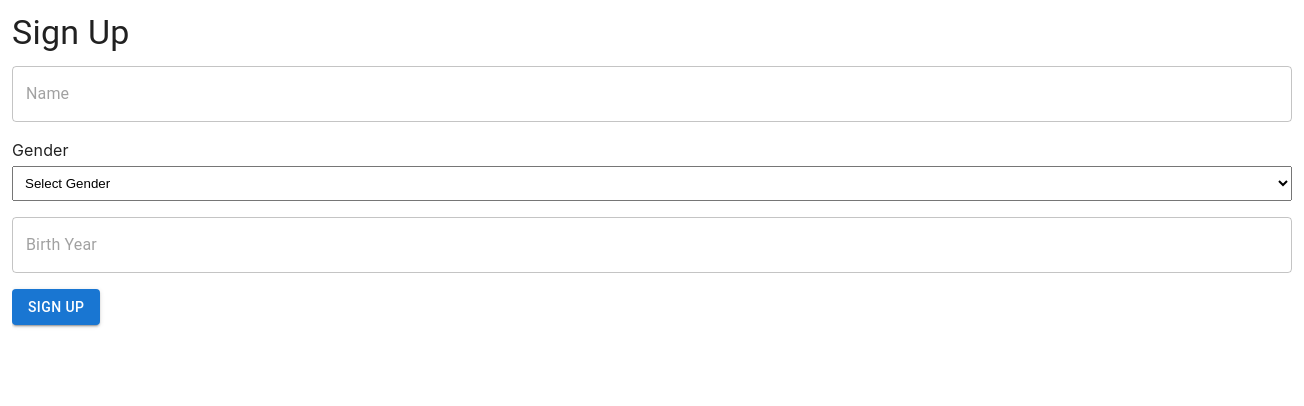
shows error message on failure
Type "Jane" into the field with placeholder "Name" at (652, 94), box [12,66,1292,122]
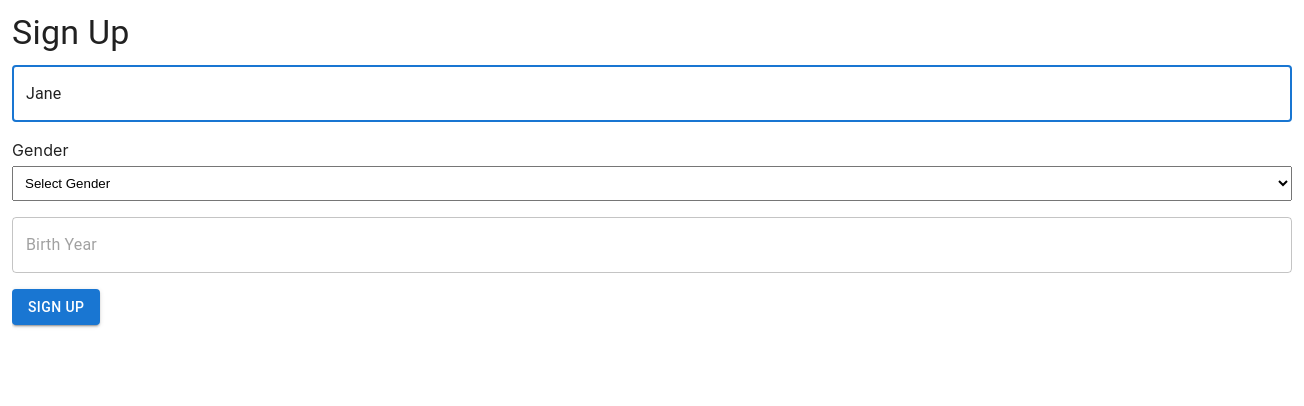
Select "Female" in the dropdown labelled "Gender" at (652, 183), box [12,166,1292,201]
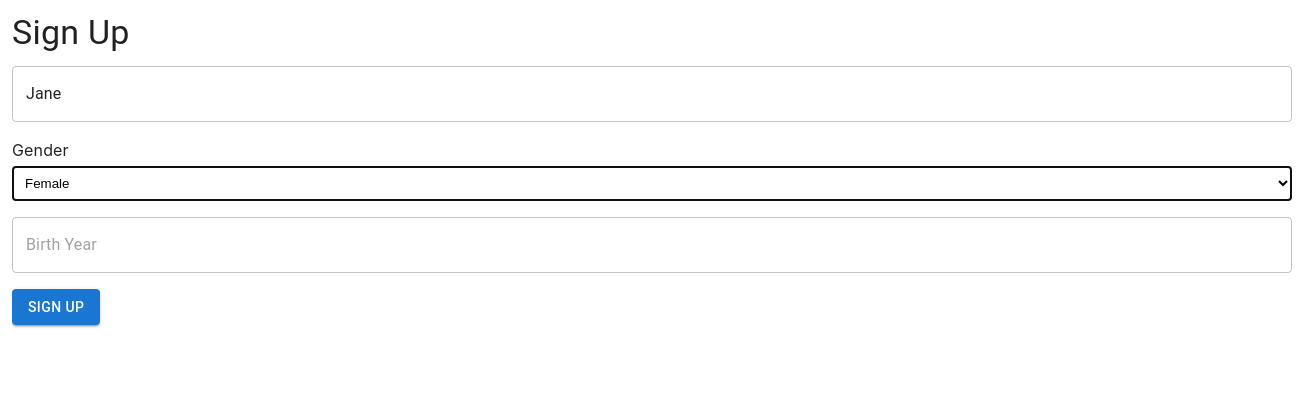
Type "2000" into the field with placeholder "Birth Year" at (652, 245), box [12,217,1292,273]
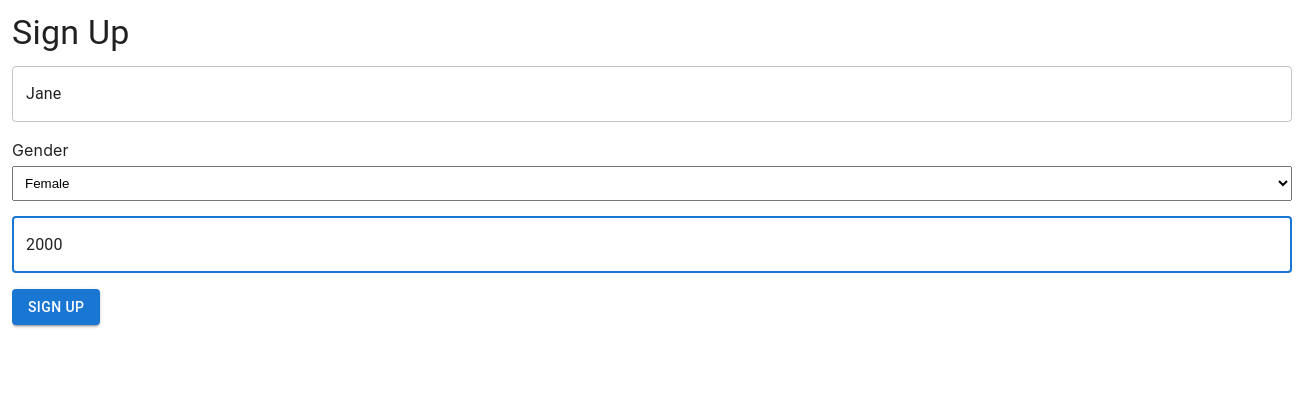
Click the button "Sign Up" at (56, 307), box [12,289,100,325]
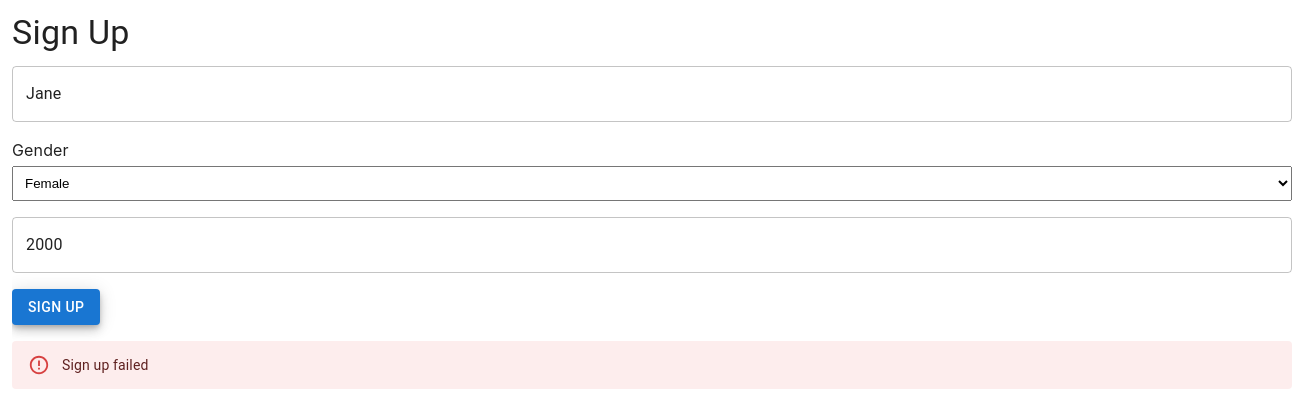
Result: the message "Sign up failed" is shown at [12,341,1292,389]
